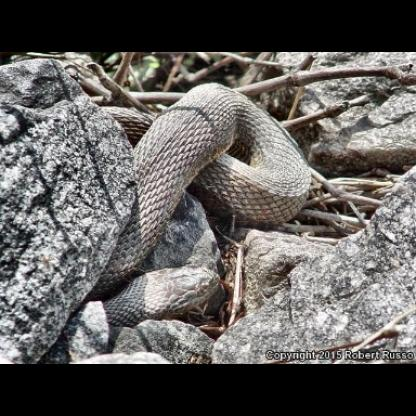Snake: (86, 75, 314, 342)
